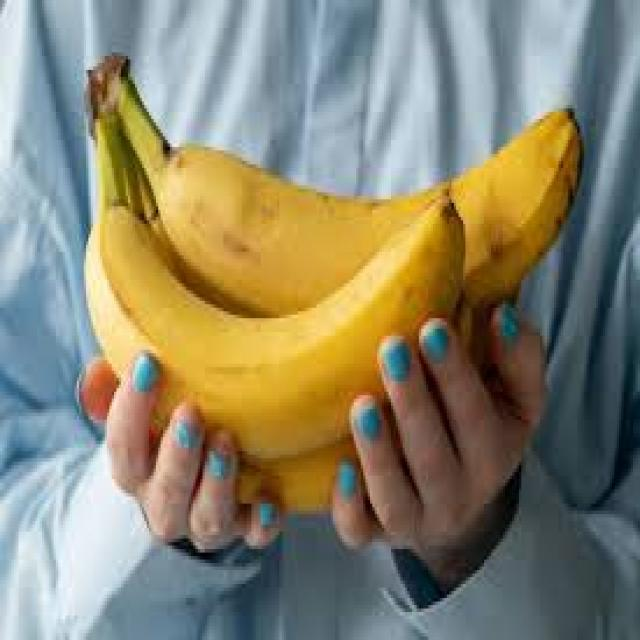Banana: (83, 50, 585, 520)
